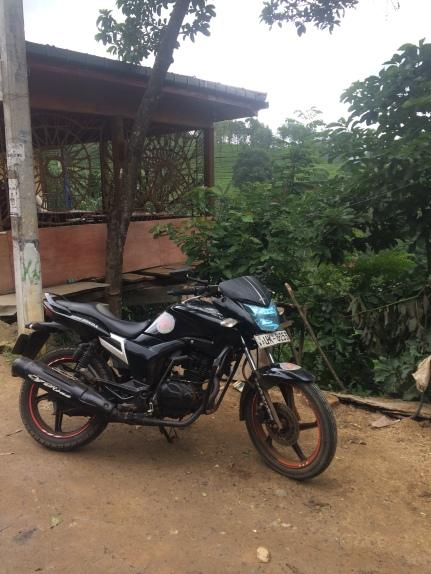motorbike: (12, 273, 338, 481)
